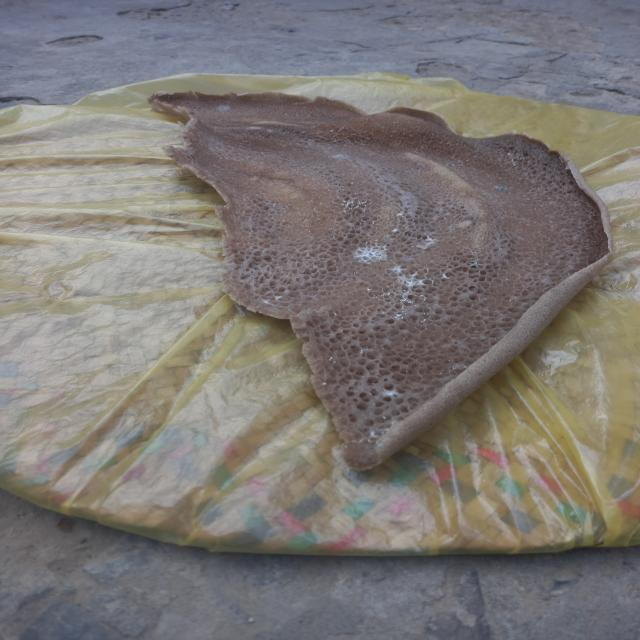injera_mold: (386, 263, 434, 304), (358, 416, 393, 452), (350, 244, 391, 264), (259, 290, 287, 308), (341, 195, 369, 212), (377, 386, 402, 401), (391, 308, 410, 320), (466, 258, 484, 270), (330, 152, 350, 162), (490, 182, 509, 192), (214, 103, 232, 113), (423, 234, 437, 246), (391, 227, 400, 236), (395, 210, 404, 218)
